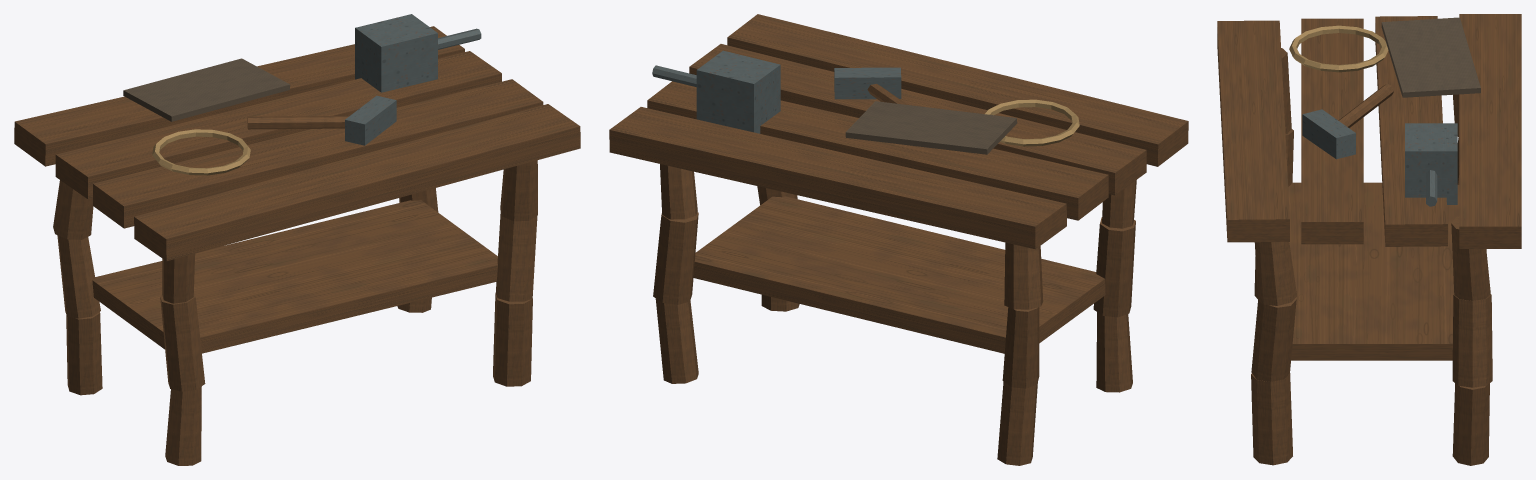
The model's file is ax-craft-001_crafting_workbench__storm.obj.
3 views of the same model, side by side, from view 1: azimuth 30°, elevation 25°; view 2: azimuth 150°, elevation 25°; view 3: azimuth 270°, elevation 25° (orthographic).
Visible parts, largest first — view 1: ax-craft-001_crafting_workbench__storm; view 2: ax-craft-001_crafting_workbench__storm; view 3: ax-craft-001_crafting_workbench__storm.
Boxes of the visible parts, bbox=[...] form: ax-craft-001_crafting_workbench__storm: bbox=[14, 14, 580, 465]; ax-craft-001_crafting_workbench__storm: bbox=[609, 14, 1188, 465]; ax-craft-001_crafting_workbench__storm: bbox=[1217, 14, 1521, 465].
Size of the model in its own units: 1.48 by 1.02 by 0.9255.
4 materials, 4 textured.
